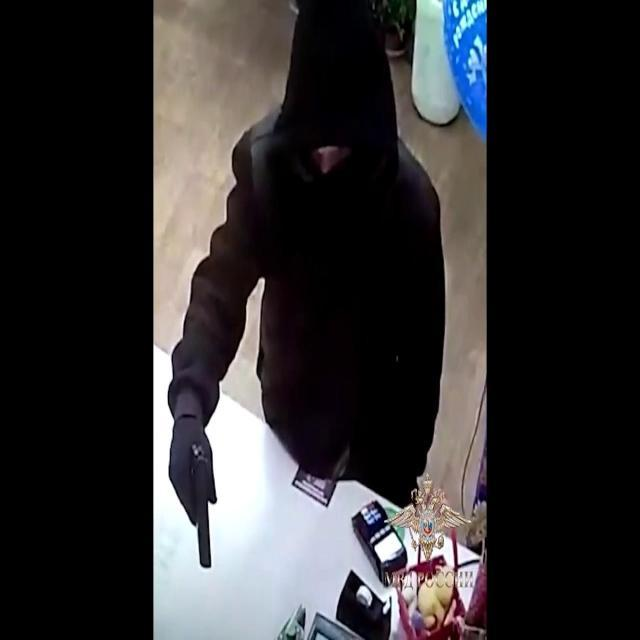pistol: (170, 423, 221, 578)
